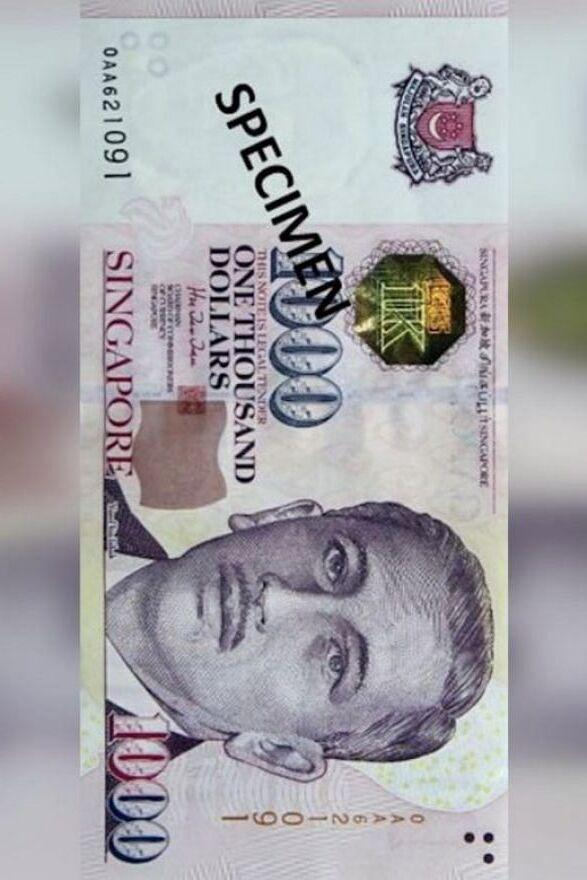1000SingaporeDollar: (83, 0, 508, 880)
